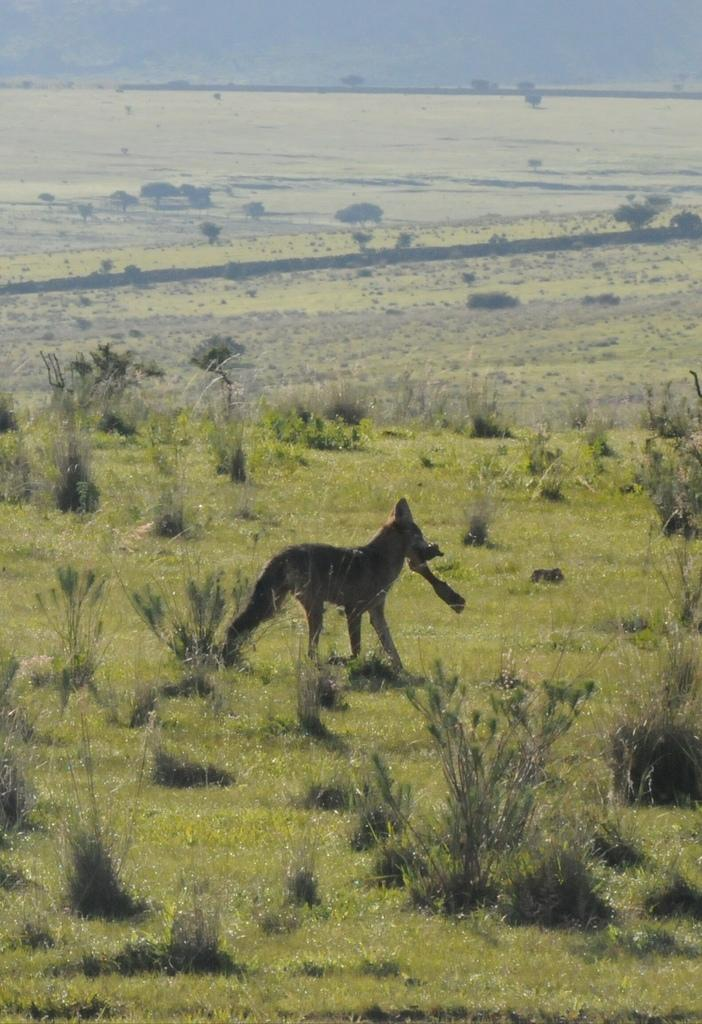Coyote: (217, 497, 441, 681)
